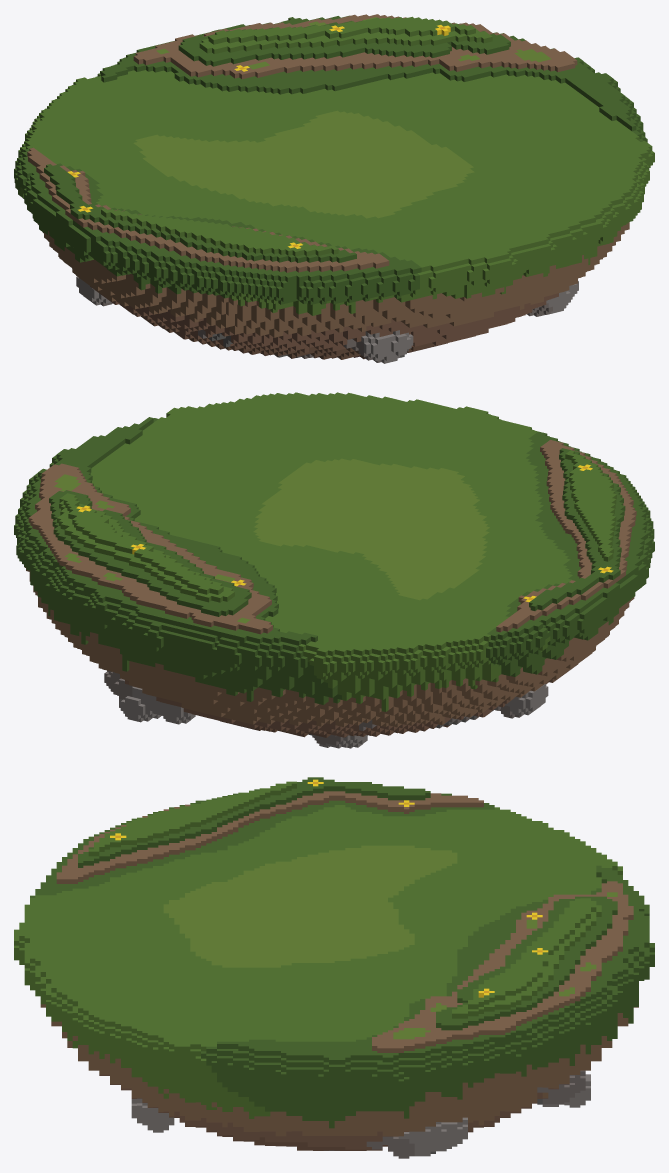
Rendered from Base isla.obj.
3 renders of one model, top to bottom at view 1: azimuth 30°, elevation 25°; view 2: azimuth 150°, elevation 25°; view 3: azimuth 270°, elevation 25°, orthographic. The views are drawn at different scales.
Size of the model in its own units: 12.5 by 4 by 12.
